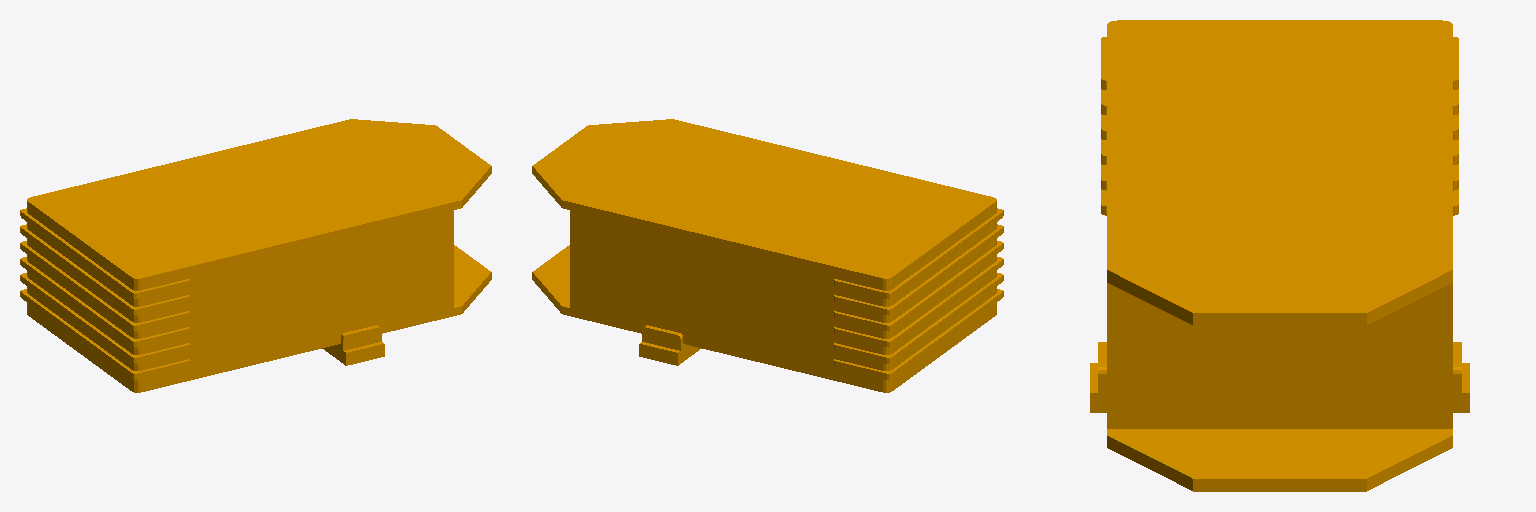
URDF robot description (sherpa_rover):
<robot name="sherpa_rover">
  <link name="main_body">
    <visual>
      <geometry>
	<mesh filename="package://meshes/Body.dae"/>
      </geometry>
    </visual>
  </link>
<!--
  <link name="box">
  </link>
  <link name="arm_base">
  </link>
  <link name="arm_lower">
  </link>
  <link name="arm_upper">
  </link>
  <link name="gripper">
  </link>
  <link name="chains_main_left">
  </link>
  <link name="chains_main_right">
  </link>
  <link name="chains_loose_front_left">
  </link>
  <link name="chains_loose_front_right">
  </link>
  <link name="chains_loose_back_left">
  </link>
  <link name="chains_loose_back_right">
  </link>
-->
  <link name="wheel_left_back">
    <collision>
      <origin xyz="0 0 0" rpy="0.5 0 0"/>
      <geometry>
	<cylinder radius="0.5" length="0.5"/>
      </geometry>
    </collision>
  </link>
  <link name="wheel_right_back">
    <collision>
      <origin xyz="0 0 0" rpy="0.5 0 0"/>
      <geometry>
	<cylinder radius="0.5" length="0.5"/>
      </geometry>
    </collision>
  </link>
  <link name="wheel_left_front">
    <collision>
      <origin xyz="0 0 0" rpy="0.5 0 0"/>
      <geometry>
	<cylinder radius="0.5" length="0.5"/>
      </geometry>
    </collision>
  </link>
  <link name="wheel_right_front">
    <collision>
      <origin xyz="0 0 0" rpy="0.5 0 0"/>
      <geometry>
	<cylinder radius="0.5" length="0.5"/>
      </geometry>
    </collision>
  </link>

  <joint name="wheel_joint_lb" type="continuous">
    <parent link="main_body"/>
    <child link="wheel_left_back"/>
    <origin xyz="5 3 0" rpy="0 0 0" />
    <axis xyz="0 1 0" />
  </joint>

  <joint name="wheel_joint_rb" type="continuous">
    <parent link="main_body"/>
    <child link="wheel_right_back"/>
    <origin xyz="5 3 0" rpy="0 0 0" />
    <axis xyz="0 1 0" />
  </joint>

  <joint name="wheel_joint_lf" type="continuous">
    <parent link="main_body"/>
    <child link="wheel_left_front"/>
    <origin xyz="5 3 0" rpy="0 0 0" />
    <axis xyz="0 1 0" />
  </joint>

  <joint name="wheel_joint_rf" type="continuous">
    <parent link="main_body"/>
    <child link="wheel_right_front"/>
    <origin xyz="5 3 0" rpy="0 0 0" />
    <axis xyz="0 1 0" />
  </joint>

</robot>

--- Facts derived from the render (not from the file) ---
3 views of the same robot in one strip: view 1: azimuth 30°, elevation 25°; view 2: azimuth 150°, elevation 25°; view 3: azimuth 270°, elevation 25° (orthographic).
Model sherpa_rover with 5 links and 4 joints (4 continuous), rooted at main_body, posed all joints at 0.
Visible links, largest first — view 1: main_body; view 2: main_body; view 3: main_body.
Link boxes in pixels (<box>): main_body: <box>20,119,491,392</box>; main_body: <box>532,119,1003,392</box>; main_body: <box>1090,20,1469,491</box>.
Size in the robot's own frame: 0.9581 by 0.5225 by 0.3126 metres.
Meshes: 1 distinct files referenced, 1 mesh visuals loaded (1 Collada DAE).